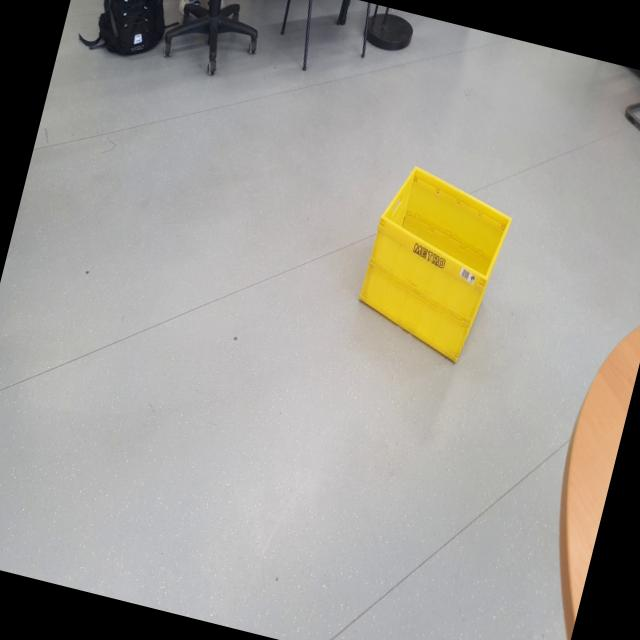box: (344, 150, 523, 377)
